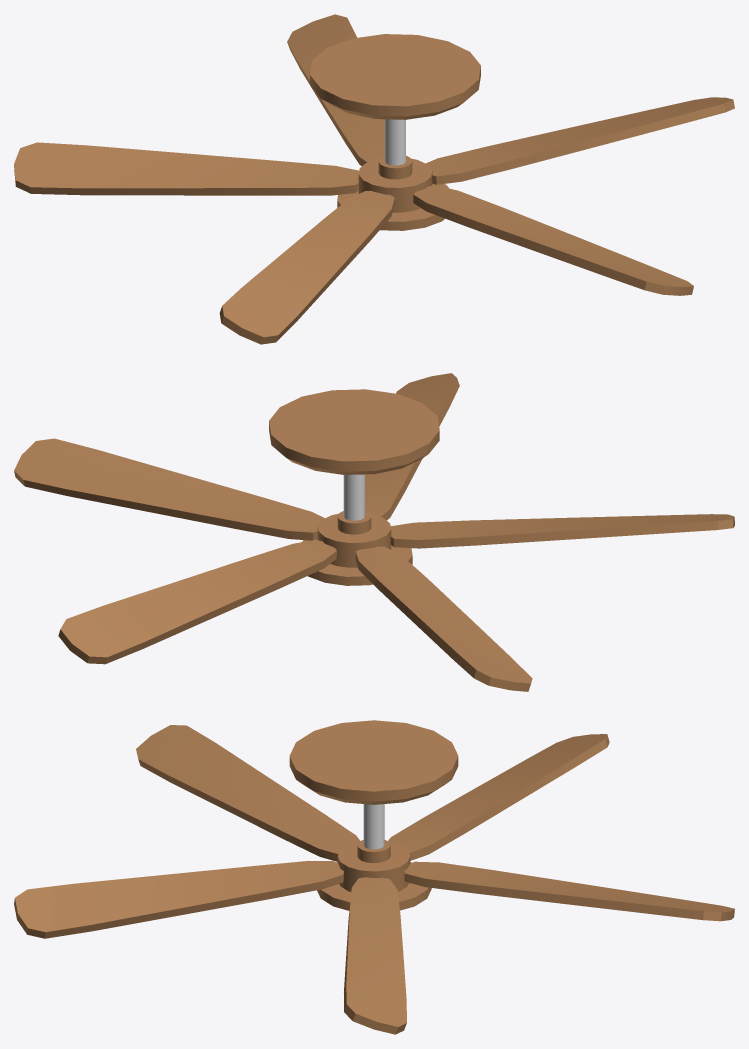
Rendered from CeilingFan.fbx.
The picture shows the model from 3 angles, top to bottom: view 1: azimuth 30°, elevation 25°; view 2: azimuth 150°, elevation 25°; view 3: azimuth 270°, elevation 25°; orthographic projection. The views are drawn at different scales.
Parts seen in each view (by area): view 1: Blades, Ceiling Fan; view 2: Blades, Ceiling Fan; view 3: Blades, Ceiling Fan.
Boxes of the visible parts, x1,y1,x2,y2 form: Blades: (14,14,734,344); Ceiling Fan: (310,34,480,230); Blades: (14,373,734,691); Ceiling Fan: (269,389,439,585); Blades: (14,725,734,1034); Ceiling Fan: (289,720,458,910).
Bounding box in the file's own units: 273 × 285 × 60.14.
